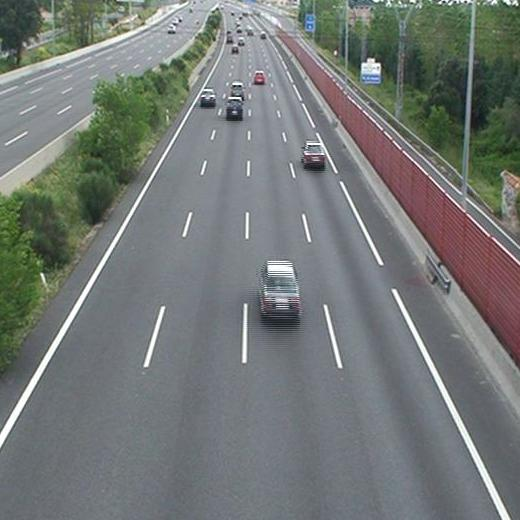car: (261, 262, 300, 316), (303, 142, 326, 166), (226, 98, 242, 117), (200, 88, 216, 105), (232, 82, 243, 95), (254, 71, 265, 83), (230, 45, 239, 53), (226, 34, 233, 42)
